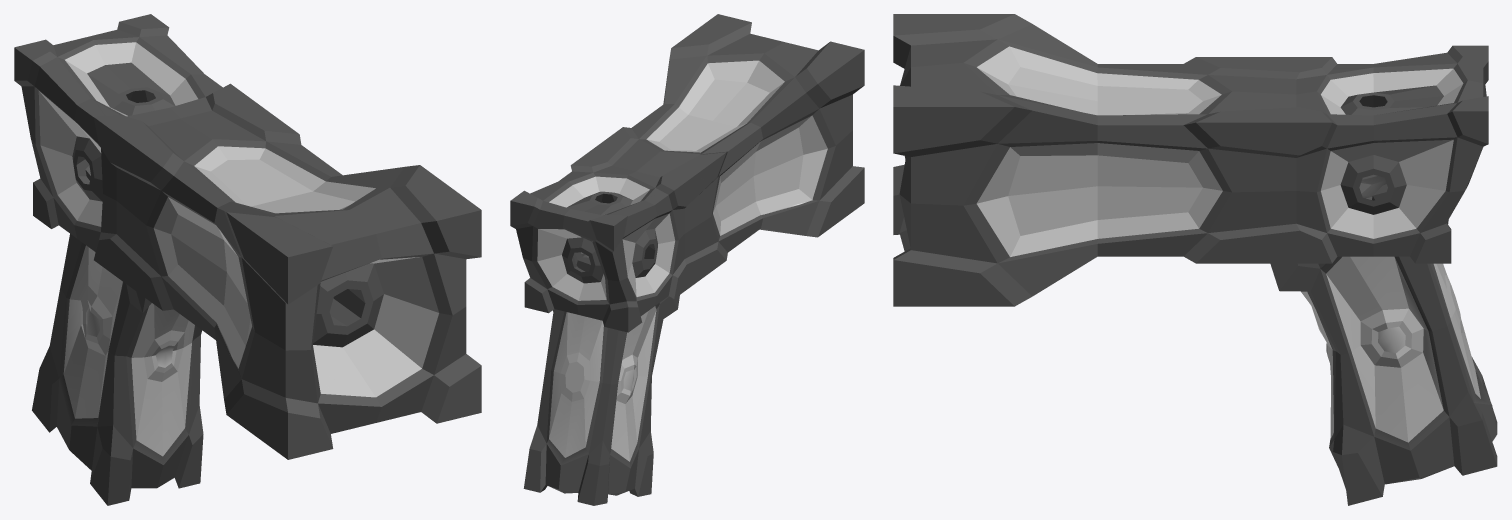
Rendered from GUN.fbx.
3 renders of one model, left to right at view 1: azimuth 30°, elevation 25°; view 2: azimuth 150°, elevation 25°; view 3: azimuth 270°, elevation 25°, orthographic. The views are drawn at different scales.
Visible parts, largest first — view 1: pCube12; view 2: pCube12; view 3: pCube12.
Boxes of the visible parts, x1,y1,x2,y2 form: pCube12: (14,14,481,505); pCube12: (510,14,864,505); pCube12: (893,14,1497,505).
Size of the model in its own units: 14.33 by 30.4 by 39.32.
Materials: 1 (1 with a texture image).
